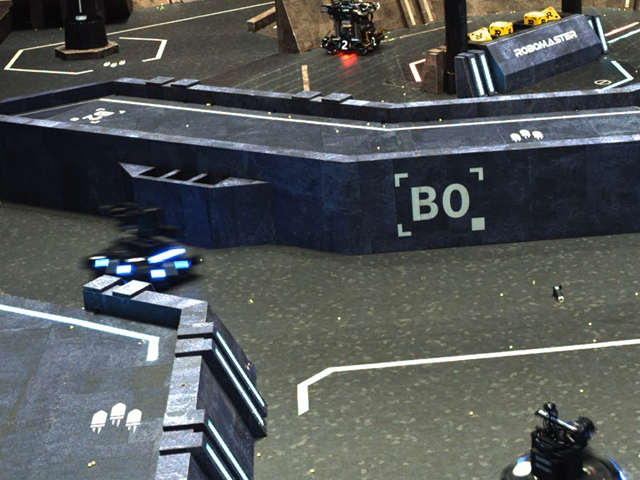rm: (78, 200, 203, 291), (493, 403, 635, 480), (319, 0, 388, 58)
